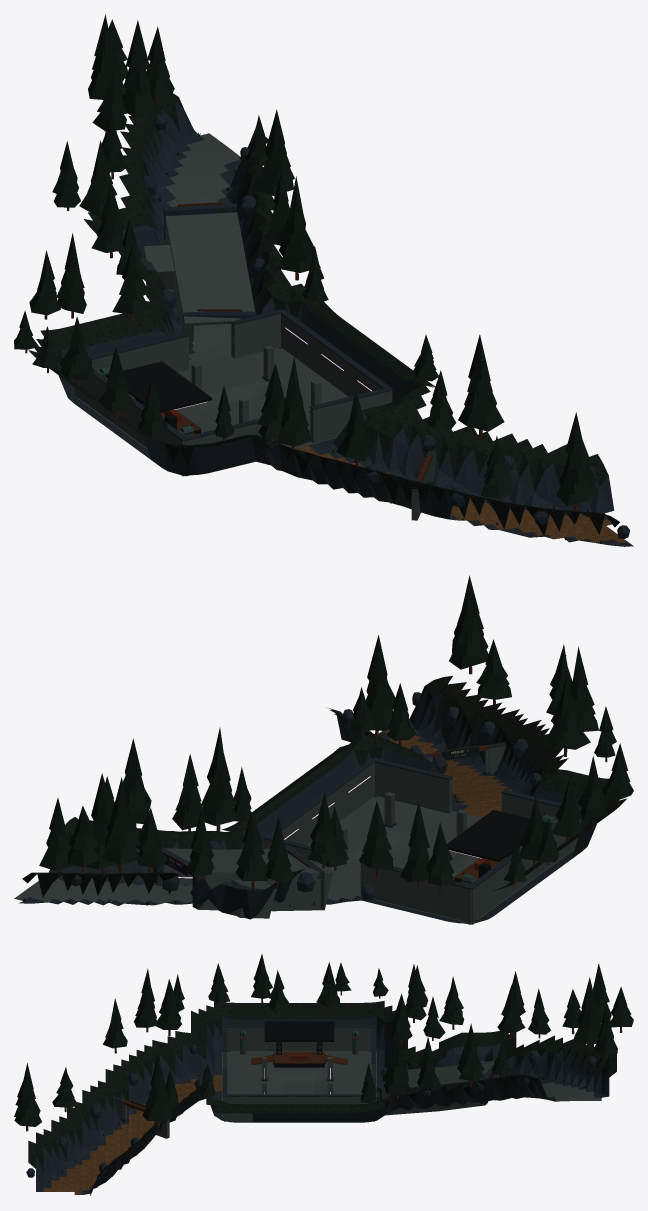
File: Pohorje_Route_C.fbx
3 views of the same model, one above another, from view 1: azimuth 30°, elevation 25°; view 2: azimuth 150°, elevation 25°; view 3: azimuth 270°, elevation 25° (orthographic). The views are drawn at different scales.
Parts seen in each view (by area): view 1: PL_C_Ground_04_04, PL_C_Cistern_22_25, PL_C_Ground_05_03, PL_C_Ground_05_04, PL_C_Ground_04_02, PL_C_Ground_04_03, PL_C_Forest_21_22, PL_C_RemovableRoof_Tunnel_0, PL_C_RemovableRoof_Tunnel_1, PL_C_Forest_21_24, PL_C_Forest_22_23, PL_C_Forest_21_28 (+15 smaller); view 2: PL_C_Cistern_22_25, PL_C_Ground_05_04, PL_C_Ground_04_02, PL_C_Forest_21_22, PL_C_Ground_04_04, PL_C_Ground_05_03, PL_C_Forest_21_24, PL_C_Ground_04_03, PL_C_Forest_22_23, PL_C_Forest_21_28, PL_C_Forest_23_26, PL_C_Forest_23_25 (+19 smaller); view 3: PL_C_Ground_05_04, PL_C_Ground_05_03, PL_C_Ground_04_02, PL_C_Cistern_22_25, PL_C_Ground_04_04, PL_C_Ground_04_03, PL_C_Forest_21_22, PL_C_Ground_05_02, PL_C_Ground_04_05, PL_C_Forest_21_24, PL_C_Forest_23_25, PL_C_Forest_22_23 (+13 smaller).
Boxes of the visible parts, <box> form: PL_C_Ground_04_04: <box>377,366,614,539</box>; PL_C_Cistern_22_25: <box>74,309,392,476</box>; PL_C_Ground_05_03: <box>28,277,325,459</box>; PL_C_Ground_05_04: <box>123,406,463,519</box>; PL_C_Ground_04_02: <box>120,93,275,278</box>; PL_C_Ground_04_03: <box>249,240,410,402</box>; PL_C_Forest_21_22: <box>88,14,240,200</box>; PL_C_RemovableRoof_Tunnel_0: <box>165,212,246,268</box>; PL_C_RemovableRoof_Tunnel_1: <box>174,262,255,325</box>; PL_C_Forest_21_24: <box>264,170,328,306</box>; PL_C_Forest_22_23: <box>52,140,174,293</box>; PL_C_Forest_21_28: <box>481,412,601,543</box>; PL_C_Cistern_22_25: <box>263,758,581,924</box>; PL_C_Ground_05_04: <box>381,709,626,859</box>; PL_C_Ground_04_02: <box>14,817,194,905</box>; PL_C_Forest_21_22: <box>23,773,148,905</box>; PL_C_Ground_04_04: <box>312,702,505,812</box>; PL_C_Ground_05_03: <box>287,815,598,923</box>; PL_C_Forest_21_24: <box>172,727,251,831</box>; PL_C_Ground_04_03: <box>180,765,373,849</box>; PL_C_Forest_22_23: <box>235,792,342,890</box>; PL_C_Forest_21_28: <box>414,575,511,739</box>; PL_C_Forest_23_26: <box>546,675,633,804</box>; PL_C_Forest_23_25: <box>520,756,607,866</box>; PL_C_Ground_05_04: <box>82,1001,252,1130</box>; PL_C_Ground_05_03: <box>253,1001,438,1100</box>; PL_C_Ground_04_02: <box>439,1037,616,1106</box>; PL_C_Cistern_22_25: <box>222,1025,375,1121</box>; PL_C_Ground_04_04: <box>67,1089,252,1195</box>; PL_C_Ground_04_03: <box>253,1085,438,1122</box>; PL_C_Forest_21_22: <box>542,963,633,1101</box>; PL_C_Ground_05_02: <box>439,1031,554,1076</box>; PL_C_Ground_04_05: <box>28,1116,66,1191</box>; PL_C_Forest_21_24: <box>360,1026,440,1104</box>; PL_C_Forest_23_25: <box>251,954,340,1015</box>; PL_C_Forest_22_23: <box>439,971,525,1038</box>.
Size of the model in its own units: 82.84 by 53.08 by 160.
